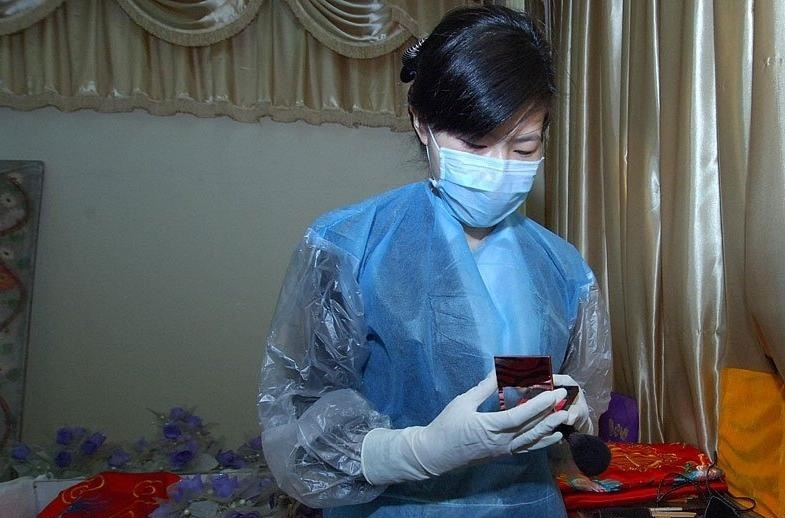face_mask: (442, 106, 548, 225)
